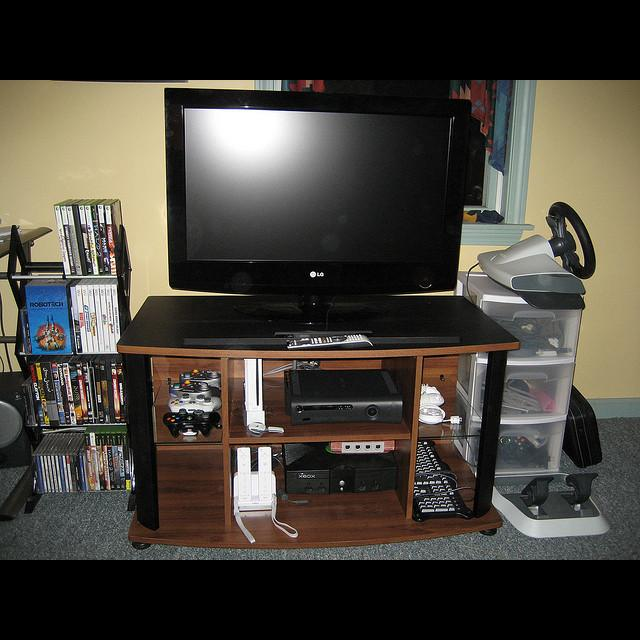Computer-Keyboard: (411, 440, 472, 522)
Flat-Panel-TV: (163, 88, 468, 346)
TV-Remote-Control: (287, 334, 374, 350)
